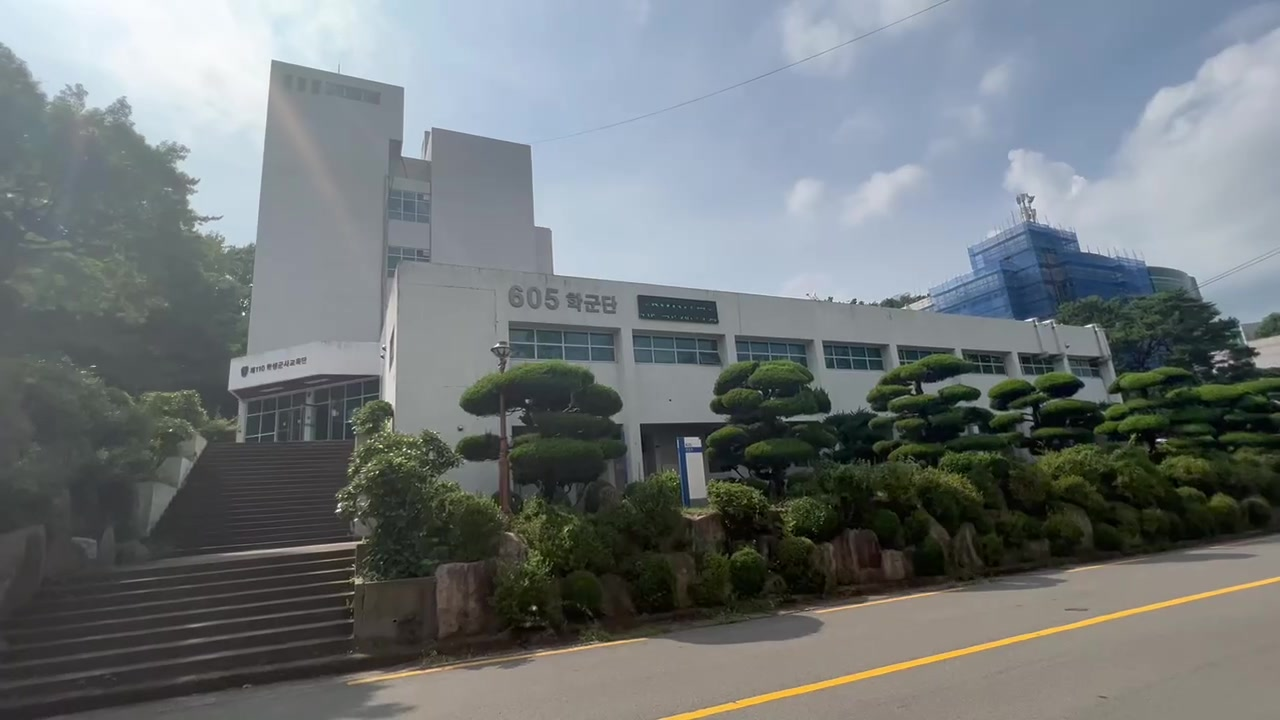low: (227, 69, 741, 499)
